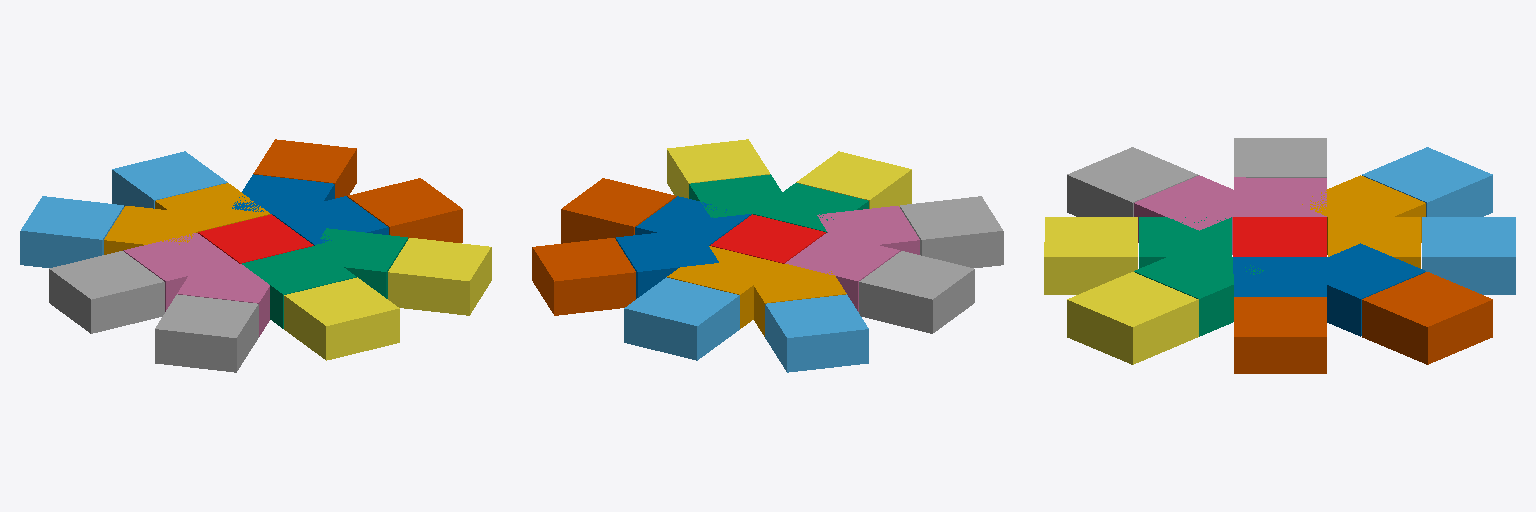
The robot description file, URDF, robot "rob":
<?xml version='1.0' encoding='UTF-8'?>
<robot name="rob">
  <link name="set1_arm1">
    <inertial>
      <origin xyz="0.0 0.34 0.0" rpy="0.0 0.0 0.0"/>
      <mass value="1.0"/>
      <inertia ixx="0.0" ixy="0.0" ixz="0.0" iyy="0.0" iyz="0.0" izz="0.0"/>
    </inertial>
    <visual>
      <geometry>
        <box size="0.67 0.67 0.3 "/>
      </geometry>
      <origin xyz="0.0 0.34 0.0" rpy="0.0 0.0 0.0"/>
    </visual>
    <collision>
      <geometry>
        <box size="0.67 0.67 0.3 "/>
      </geometry>
      <origin xyz="0.0 0.34 0.0" rpy="0.0 0.0 0.0"/>
    </collision>
  </link>
  <link name="set1_arm2">
    <inertial>
      <origin xyz="0.0 0.34 0.0" rpy="0.0 0.0 0.0"/>
      <mass value="1.0"/>
      <inertia ixx="0.0" ixy="0.0" ixz="0.0" iyy="0.0" iyz="0.0" izz="0.0"/>
    </inertial>
    <visual>
      <geometry>
        <box size="0.67 0.67 0.3 "/>
      </geometry>
      <origin xyz="0.0 0.34 0.0" rpy="0.0 0.0 0.0"/>
    </visual>
    <collision>
      <geometry>
        <box size="0.67 0.67 0.3 "/>
      </geometry>
      <origin xyz="0.0 0.34 0.0" rpy="0.0 0.0 0.0"/>
    </collision>
  </link>
  <link name="set2_arm1">
    <inertial>
      <origin xyz="0.0 0.34 0.0" rpy="0.0 0.0 0.0"/>
      <mass value="1.0"/>
      <inertia ixx="0.0" ixy="0.0" ixz="0.0" iyy="0.0" iyz="0.0" izz="0.0"/>
    </inertial>
    <visual>
      <geometry>
        <box size="0.67 0.67 0.3 "/>
      </geometry>
      <origin xyz="0.0 0.34 0.0" rpy="0.0 0.0 0.0"/>
    </visual>
    <collision>
      <geometry>
        <box size="0.67 0.67 0.3 "/>
      </geometry>
      <origin xyz="0.0 0.34 0.0" rpy="0.0 0.0 0.0"/>
    </collision>
  </link>
  <link name="set2_arm2">
    <inertial>
      <origin xyz="0.0 0.34 0.0" rpy="0.0 0.0 0.0"/>
      <mass value="1.0"/>
      <inertia ixx="0.0" ixy="0.0" ixz="0.0" iyy="0.0" iyz="0.0" izz="0.0"/>
    </inertial>
    <visual>
      <geometry>
        <box size="0.67 0.67 0.3 "/>
      </geometry>
      <origin xyz="0.0 0.34 0.0" rpy="0.0 0.0 0.0"/>
    </visual>
    <collision>
      <geometry>
        <box size="0.67 0.67 0.3 "/>
      </geometry>
      <origin xyz="0.0 0.34 0.0" rpy="0.0 0.0 0.0"/>
    </collision>
  </link>
  <link name="set3_arm1">
    <inertial>
      <origin xyz="0.0 0.34 0.0" rpy="0.0 0.0 0.0"/>
      <mass value="1.0"/>
      <inertia ixx="0.0" ixy="0.0" ixz="0.0" iyy="0.0" iyz="0.0" izz="0.0"/>
    </inertial>
    <visual>
      <geometry>
        <box size="0.67 0.67 0.3 "/>
      </geometry>
      <origin xyz="0.0 0.34 0.0" rpy="0.0 0.0 0.0"/>
    </visual>
    <collision>
      <geometry>
        <box size="0.67 0.67 0.3 "/>
      </geometry>
      <origin xyz="0.0 0.34 0.0" rpy="0.0 0.0 0.0"/>
    </collision>
  </link>
  <link name="set3_arm2">
    <inertial>
      <origin xyz="0.0 0.34 0.0" rpy="0.0 0.0 0.0"/>
      <mass value="1.0"/>
      <inertia ixx="0.0" ixy="0.0" ixz="0.0" iyy="0.0" iyz="0.0" izz="0.0"/>
    </inertial>
    <visual>
      <geometry>
        <box size="0.67 0.67 0.3 "/>
      </geometry>
      <origin xyz="0.0 0.34 0.0" rpy="0.0 0.0 0.0"/>
    </visual>
    <collision>
      <geometry>
        <box size="0.67 0.67 0.3 "/>
      </geometry>
      <origin xyz="0.0 0.34 0.0" rpy="0.0 0.0 0.0"/>
    </collision>
  </link>
  <link name="set4_arm1">
    <inertial>
      <origin xyz="0.0 0.34 0.0" rpy="0.0 0.0 0.0"/>
      <mass value="1.0"/>
      <inertia ixx="0.0" ixy="0.0" ixz="0.0" iyy="0.0" iyz="0.0" izz="0.0"/>
    </inertial>
    <visual>
      <geometry>
        <box size="0.67 0.67 0.3 "/>
      </geometry>
      <origin xyz="0.0 0.34 0.0" rpy="0.0 0.0 0.0"/>
    </visual>
    <collision>
      <geometry>
        <box size="0.67 0.67 0.3 "/>
      </geometry>
      <origin xyz="0.0 0.34 0.0" rpy="0.0 0.0 0.0"/>
    </collision>
  </link>
  <link name="set4_arm2">
    <inertial>
      <origin xyz="0.0 0.34 0.0" rpy="0.0 0.0 0.0"/>
      <mass value="1.0"/>
      <inertia ixx="0.0" ixy="0.0" ixz="0.0" iyy="0.0" iyz="0.0" izz="0.0"/>
    </inertial>
    <visual>
      <geometry>
        <box size="0.67 0.67 0.3 "/>
      </geometry>
      <origin xyz="0.0 0.34 0.0" rpy="0.0 0.0 0.0"/>
    </visual>
    <collision>
      <geometry>
        <box size="0.67 0.67 0.3 "/>
      </geometry>
      <origin xyz="0.0 0.34 0.0" rpy="0.0 0.0 0.0"/>
    </collision>
  </link>
  <link name="set5_arm1">
    <inertial>
      <origin xyz="0.0 0.34 0.0" rpy="0.0 0.0 0.0"/>
      <mass value="1.0"/>
      <inertia ixx="0.0" ixy="0.0" ixz="0.0" iyy="0.0" iyz="0.0" izz="0.0"/>
    </inertial>
    <visual>
      <geometry>
        <box size="0.67 0.67 0.3 "/>
      </geometry>
      <origin xyz="0.0 0.34 0.0" rpy="0.0 0.0 0.0"/>
    </visual>
    <collision>
      <geometry>
        <box size="0.67 0.67 0.3 "/>
      </geometry>
      <origin xyz="0.0 0.34 0.0" rpy="0.0 0.0 0.0"/>
    </collision>
  </link>
  <link name="set5_arm2">
    <inertial>
      <origin xyz="0.0 0.34 0.0" rpy="0.0 0.0 0.0"/>
      <mass value="1.0"/>
      <inertia ixx="0.0" ixy="0.0" ixz="0.0" iyy="0.0" iyz="0.0" izz="0.0"/>
    </inertial>
    <visual>
      <geometry>
        <box size="0.67 0.67 0.3 "/>
      </geometry>
      <origin xyz="0.0 0.34 0.0" rpy="0.0 0.0 0.0"/>
    </visual>
    <collision>
      <geometry>
        <box size="0.67 0.67 0.3 "/>
      </geometry>
      <origin xyz="0.0 0.34 0.0" rpy="0.0 0.0 0.0"/>
    </collision>
  </link>
  <link name="set6_arm1">
    <inertial>
      <origin xyz="0.0 0.34 0.0" rpy="0.0 0.0 0.0"/>
      <mass value="1.0"/>
      <inertia ixx="0.0" ixy="0.0" ixz="0.0" iyy="0.0" iyz="0.0" izz="0.0"/>
    </inertial>
    <visual>
      <geometry>
        <box size="0.67 0.67 0.3 "/>
      </geometry>
      <origin xyz="0.0 0.34 0.0" rpy="0.0 0.0 0.0"/>
    </visual>
    <collision>
      <geometry>
        <box size="0.67 0.67 0.3 "/>
      </geometry>
      <origin xyz="0.0 0.34 0.0" rpy="0.0 0.0 0.0"/>
    </collision>
  </link>
  <link name="set6_arm2">
    <inertial>
      <origin xyz="0.0 0.34 0.0" rpy="0.0 0.0 0.0"/>
      <mass value="1.0"/>
      <inertia ixx="0.0" ixy="0.0" ixz="0.0" iyy="0.0" iyz="0.0" izz="0.0"/>
    </inertial>
    <visual>
      <geometry>
        <box size="0.67 0.67 0.3 "/>
      </geometry>
      <origin xyz="0.0 0.34 0.0" rpy="0.0 0.0 0.0"/>
    </visual>
    <collision>
      <geometry>
        <box size="0.67 0.67 0.3 "/>
      </geometry>
      <origin xyz="0.0 0.34 0.0" rpy="0.0 0.0 0.0"/>
    </collision>
  </link>
  <link name="set7_arm1">
    <inertial>
      <origin xyz="0.0 0.34 0.0" rpy="0.0 0.0 0.0"/>
      <mass value="1.0"/>
      <inertia ixx="0.0" ixy="0.0" ixz="0.0" iyy="0.0" iyz="0.0" izz="0.0"/>
    </inertial>
    <visual>
      <geometry>
        <box size="0.67 0.67 0.3 "/>
      </geometry>
      <origin xyz="0.0 0.34 0.0" rpy="0.0 0.0 0.0"/>
    </visual>
    <collision>
      <geometry>
        <box size="0.67 0.67 0.3 "/>
      </geometry>
      <origin xyz="0.0 0.34 0.0" rpy="0.0 0.0 0.0"/>
    </collision>
  </link>
  <link name="set7_arm2">
    <inertial>
      <origin xyz="0.0 0.34 0.0" rpy="0.0 0.0 0.0"/>
      <mass value="1.0"/>
      <inertia ixx="0.0" ixy="0.0" ixz="0.0" iyy="0.0" iyz="0.0" izz="0.0"/>
    </inertial>
    <visual>
      <geometry>
        <box size="0.67 0.67 0.3 "/>
      </geometry>
      <origin xyz="0.0 0.34 0.0" rpy="0.0 0.0 0.0"/>
    </visual>
    <collision>
      <geometry>
        <box size="0.67 0.67 0.3 "/>
      </geometry>
      <origin xyz="0.0 0.34 0.0" rpy="0.0 0.0 0.0"/>
    </collision>
  </link>
  <link name="set8_arm1">
    <inertial>
      <origin xyz="0.0 0.34 0.0" rpy="0.0 0.0 0.0"/>
      <mass value="1.0"/>
      <inertia ixx="0.0" ixy="0.0" ixz="0.0" iyy="0.0" iyz="0.0" izz="0.0"/>
    </inertial>
    <visual>
      <geometry>
        <box size="0.67 0.67 0.3 "/>
      </geometry>
      <origin xyz="0.0 0.34 0.0" rpy="0.0 0.0 0.0"/>
    </visual>
    <collision>
      <geometry>
        <box size="0.67 0.67 0.3 "/>
      </geometry>
      <origin xyz="0.0 0.34 0.0" rpy="0.0 0.0 0.0"/>
    </collision>
  </link>
  <link name="set8_arm2">
    <inertial>
      <origin xyz="0.0 0.34 0.0" rpy="0.0 0.0 0.0"/>
      <mass value="1.0"/>
      <inertia ixx="0.0" ixy="0.0" ixz="0.0" iyy="0.0" iyz="0.0" izz="0.0"/>
    </inertial>
    <visual>
      <geometry>
        <box size="0.67 0.67 0.3 "/>
      </geometry>
      <origin xyz="0.0 0.34 0.0" rpy="0.0 0.0 0.0"/>
    </visual>
    <collision>
      <geometry>
        <box size="0.67 0.67 0.3 "/>
      </geometry>
      <origin xyz="0.0 0.34 0.0" rpy="0.0 0.0 0.0"/>
    </collision>
  </link>
  <link name="base_link">
    <inertial>
      <origin xyz="0.0 0.0 0.0" rpy="0.0 -0.0 0.0"/>
      <mass value="1.0"/>
      <inertia ixx="1.0" ixy="0.0" ixz="0.0" iyy="1.0" iyz="0.0" izz="1.0"/>
    </inertial>
    <visual>
      <geometry>
        <box size="0.67 0.67 0.3 "/>
      </geometry>
      <material name="red"/>
      <origin xyz="0.0 0.0 0.0" rpy="0.0 -0.0 0.0"/>
    </visual>
    <collision>
      <geometry>
        <box size="0.67 0.67 0.3 "/>
      </geometry>
      <origin xyz="0.0 0.0 0.0" rpy="0.0 0.0 0.0"/>
    </collision>
  </link>
  <joint name="set1_jointBase" type="fixed">
    <limit effort="1.57" velocity="1.57" lower="-1.57" upper="1.57"/>
    <parent link="base_link"/>
    <child link="set1_arm1"/>
    <axis xyz="1. 0. 0."/>
    <origin xyz="0.0 0.34 0.0" rpy="0.0 0.0 0.0"/>
  </joint>
  <joint name="set1_joint1" type="revolute">
    <limit effort="1.57" velocity="1.57" lower="-1.57" upper="1.57"/>
    <parent link="set1_arm1"/>
    <child link="set1_arm2"/>
    <axis xyz="1. 0. 0."/>
    <origin xyz="0.0 0.68 0.0" rpy="0.0 0.0 0.0"/>
  </joint>
  <joint name="set2_jointBase" type="fixed">
    <limit effort="1.57" velocity="1.57" lower="-1.57" upper="1.57"/>
    <parent link="base_link"/>
    <child link="set2_arm1"/>
    <axis xyz="1. 0. 0."/>
    <origin xyz="0.0 -0.34 0.0" rpy="0.0 0.0 3.141"/>
  </joint>
  <joint name="set2_joint1" type="revolute">
    <limit effort="1.57" velocity="1.57" lower="-1.57" upper="1.57"/>
    <parent link="set2_arm1"/>
    <child link="set2_arm2"/>
    <axis xyz="1. 0. 0."/>
    <origin xyz="0.0 0.68 0.0" rpy="0.0 0.0 0.0"/>
  </joint>
  <joint name="set3_jointBase" type="fixed">
    <limit effort="1.57" velocity="1.57" lower="-1.57" upper="1.57"/>
    <parent link="base_link"/>
    <child link="set3_arm1"/>
    <axis xyz="1. 0. 0."/>
    <origin xyz="0.34 0.0 0.0" rpy="0.0 0.0 -1.57"/>
  </joint>
  <joint name="set3_joint1" type="revolute">
    <limit effort="1.57" velocity="1.57" lower="-1.57" upper="1.57"/>
    <parent link="set3_arm1"/>
    <child link="set3_arm2"/>
    <axis xyz="1. 0. 0."/>
    <origin xyz="0.0 0.68 0.0" rpy="0.0 0.0 0.0"/>
  </joint>
  <joint name="set4_jointBase" type="fixed">
    <limit effort="1.57" velocity="1.57" lower="-1.57" upper="1.57"/>
    <parent link="base_link"/>
    <child link="set4_arm1"/>
    <axis xyz="1. 0. 0."/>
    <origin xyz="-0.34 0.0 0.0" rpy="0.0 0.0 1.57"/>
  </joint>
  <joint name="set4_joint1" type="revolute">
    <limit effort="1.57" velocity="1.57" lower="-1.57" upper="1.57"/>
    <parent link="set4_arm1"/>
    <child link="set4_arm2"/>
    <axis xyz="1. 0. 0."/>
    <origin xyz="0.0 0.68 0.0" rpy="0.0 0.0 0.0"/>
  </joint>
  <joint name="set5_jointBase" type="fixed">
    <limit effort="1.57" velocity="1.57" lower="-1.57" upper="1.57"/>
    <parent link="base_link"/>
    <child link="set5_arm1"/>
    <axis xyz="1. 0. 0."/>
    <origin xyz="-0.34 0.34 0.0" rpy="0.0 0.0 0.785"/>
  </joint>
  <joint name="set5_joint1" type="revolute">
    <limit effort="1.57" velocity="1.57" lower="-1.57" upper="1.57"/>
    <parent link="set5_arm1"/>
    <child link="set5_arm2"/>
    <axis xyz="1. 0. 0."/>
    <origin xyz="0.0 0.68 0.0" rpy="0.0 0.0 0.0"/>
  </joint>
  <joint name="set6_jointBase" type="fixed">
    <limit effort="1.57" velocity="1.57" lower="-1.57" upper="1.57"/>
    <parent link="base_link"/>
    <child link="set6_arm1"/>
    <axis xyz="1. 0. 0."/>
    <origin xyz="0.34 -0.34 0.0" rpy="0.0 0.0 -2.355"/>
  </joint>
  <joint name="set6_joint1" type="revolute">
    <limit effort="1.57" velocity="1.57" lower="-1.57" upper="1.57"/>
    <parent link="set6_arm1"/>
    <child link="set6_arm2"/>
    <axis xyz="1. 0. 0."/>
    <origin xyz="0.0 0.68 0.0" rpy="0.0 0.0 0.0"/>
  </joint>
  <joint name="set7_jointBase" type="fixed">
    <limit effort="1.57" velocity="1.57" lower="-1.57" upper="1.57"/>
    <parent link="base_link"/>
    <child link="set7_arm1"/>
    <axis xyz="1. 0. 0."/>
    <origin xyz="0.34 0.34 0.0" rpy="0.0 0.0 -0.785"/>
  </joint>
  <joint name="set7_joint1" type="revolute">
    <limit effort="1.57" velocity="1.57" lower="-1.57" upper="1.57"/>
    <parent link="set7_arm1"/>
    <child link="set7_arm2"/>
    <axis xyz="1. 0. 0."/>
    <origin xyz="0.0 0.68 0.0" rpy="0.0 0.0 0.0"/>
  </joint>
  <joint name="set8_jointBase" type="fixed">
    <limit effort="1.57" velocity="1.57" lower="-1.57" upper="1.57"/>
    <parent link="base_link"/>
    <child link="set8_arm1"/>
    <axis xyz="1. 0. 0."/>
    <origin xyz="-0.34 -0.34 0.0" rpy="0.0 0.0 2.355"/>
  </joint>
  <joint name="set8_joint1" type="revolute">
    <limit effort="1.57" velocity="1.57" lower="-1.57" upper="1.57"/>
    <parent link="set8_arm1"/>
    <child link="set8_arm2"/>
    <axis xyz="1. 0. 0."/>
    <origin xyz="0.0 0.68 0.0" rpy="0.0 0.0 0.0"/>
  </joint>
  <material name="red">
    <color rgba="0.969 0.129 0.122 1.   "/>
  </material>
</robot>

--- What the picture shows (computed from the rendered views, not written in the file) ---
3 views of the same robot in one strip: view 1: azimuth 30°, elevation 25°; view 2: azimuth 150°, elevation 25°; view 3: azimuth 270°, elevation 25° (orthographic).
Robot: rob — 17 links, 16 joints (8 revolute, 8 fixed); root link base_link; default pose: every joint at zero.
Visible links, largest first — view 1: set2_arm2, set4_arm2, set8_arm2, set6_arm2, set5_arm2, set3_arm2, set1_arm2, set7_arm2, set2_arm1, set4_arm1, set6_arm1, base_link (+5 smaller); view 2: set1_arm2, set4_arm2, set5_arm2, set7_arm2, set8_arm2, set3_arm2, set2_arm2, set6_arm2, set7_arm1, set4_arm1, set1_arm1, base_link (+5 smaller); view 3: set6_arm2, set7_arm2, set3_arm2, set1_arm2, set2_arm2, set8_arm2, set5_arm2, set7_arm1, set6_arm1, set8_arm1, base_link, set4_arm2 (+5 smaller).
Link boxes in pixels (x1,y1,x2,y2): set2_arm2: (284,277,399,360); set4_arm2: (49,251,164,333); set8_arm2: (155,294,258,372); set6_arm2: (388,238,491,315); set5_arm2: (20,196,123,267); set3_arm2: (347,178,462,242); set1_arm2: (112,151,227,208); set7_arm2: (253,139,356,198); set2_arm1: (242,246,356,328); set4_arm1: (123,233,238,311); set6_arm1: (315,228,407,298); base_link: (198,214,313,263); set1_arm2: (624,277,739,360); set4_arm2: (859,251,974,333); set5_arm2: (765,294,868,372); set7_arm2: (532,238,635,315); set8_arm2: (900,196,1003,267); set3_arm2: (561,178,676,243); set2_arm2: (796,151,911,208); set6_arm2: (667,139,769,198); set7_arm1: (616,231,718,298); set4_arm1: (785,233,900,311); set1_arm1: (667,246,781,328); base_link: (710,214,825,263); set6_arm2: (1067,272,1198,364); set7_arm2: (1362,272,1492,364); set3_arm2: (1234,297,1326,373); set1_arm2: (1422,217,1515,294); set2_arm2: (1044,217,1137,294); set8_arm2: (1067,147,1198,216); set5_arm2: (1362,147,1492,216); set7_arm1: (1311,243,1425,336); set6_arm1: (1134,250,1263,336); set8_arm1: (1134,175,1263,254); base_link: (1233,217,1326,256); set4_arm2: (1234,138,1326,177).
Size in the robot's own frame: 3.39 by 3.39 by 0.3 metres.
Geometry: primitives only (box / cylinder / sphere), no mesh files.